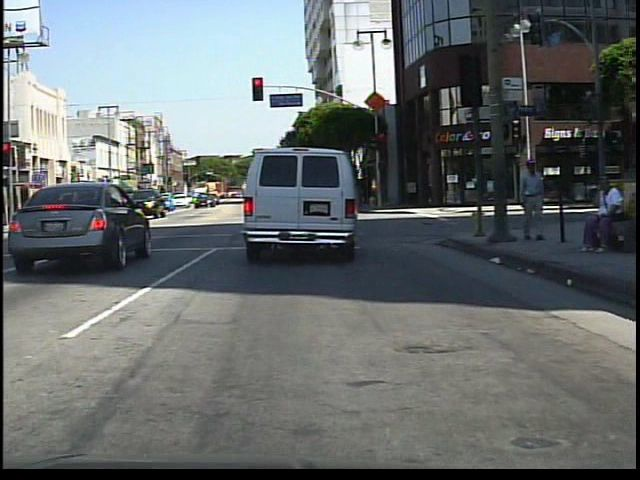person: (580, 171, 634, 258), (516, 158, 548, 245)
